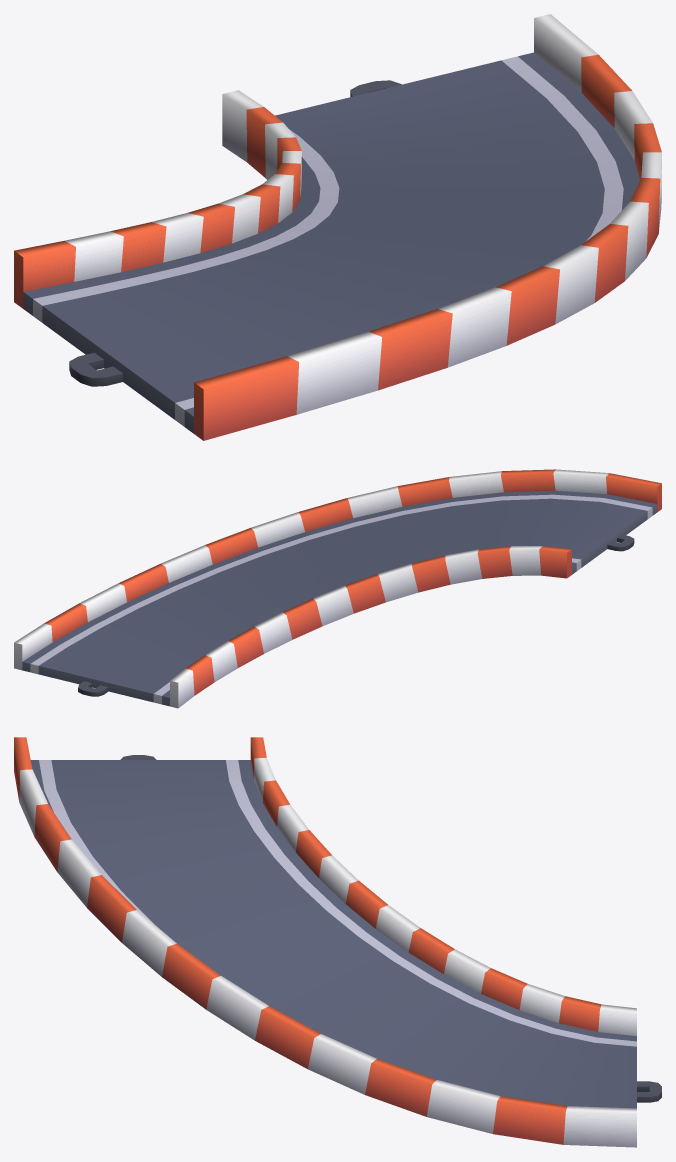
Rendered from track-road-wide-corner-large-ramp.glb.
The picture shows the model from 3 angles, top to bottom: view 1: azimuth 30°, elevation 25°; view 2: azimuth 150°, elevation 25°; view 3: azimuth 270°, elevation 25°; orthographic projection. The views are drawn at different scales.
Parts seen in each view (by area): view 1: track-road-wide-corner-large-ramp; view 2: track-road-wide-corner-large-ramp; view 3: track-road-wide-corner-large-ramp.
Part boxes in pixels (box(x1,y1,x2,y2)): track-road-wide-corner-large-ramp: box(14, 14, 661, 440); track-road-wide-corner-large-ramp: box(14, 469, 661, 708); track-road-wide-corner-large-ramp: box(14, 737, 661, 1147).
Bounding box in the file's own units: 5.2 × 1.3 × 5.2.
Materials: 1 (1 with a texture image).
